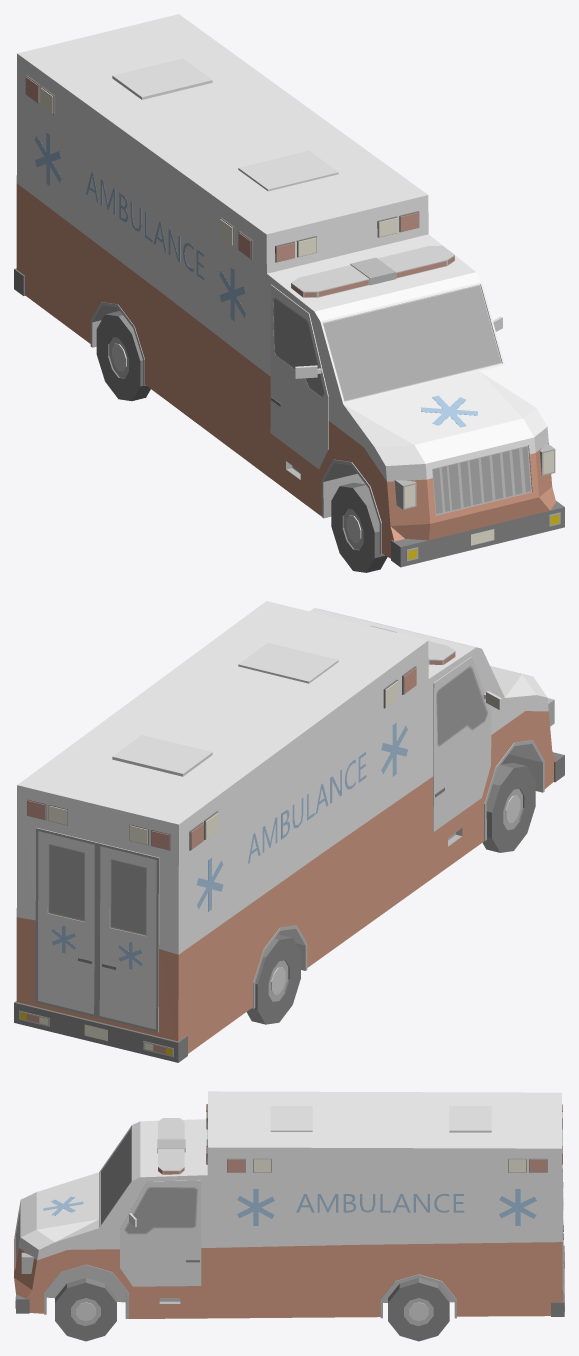
The model's file is Ambulance.fbx.
The picture shows the model from 3 angles, top to bottom: view 1: azimuth 30°, elevation 25°; view 2: azimuth 150°, elevation 25°; view 3: azimuth 270°, elevation 25°; orthographic projection. The views are drawn at different scales.
Visible parts, largest first — view 1: ty_2, Cylinder_2_3, Cylinder_2_1; view 2: ty_2, Cylinder_2_3, Cylinder_2_1; view 3: ty_2, Cylinder_2_2, Cylinder_2.
Boxes of the visible parts, bbox=[...] form: ty_2: bbox=[14, 14, 564, 567]; Cylinder_2_3: bbox=[331, 482, 387, 572]; Cylinder_2_1: bbox=[96, 311, 150, 401]; ty_2: bbox=[14, 601, 564, 1062]; Cylinder_2_3: bbox=[482, 762, 535, 852]; Cylinder_2_1: bbox=[246, 934, 300, 1024]; ty_2: bbox=[14, 1091, 564, 1318]; Cylinder_2_2: bbox=[55, 1278, 116, 1341]; Cylinder_2: bbox=[388, 1278, 449, 1341].
Bounding box in the file's own units: 89.23 × 113 × 290.
